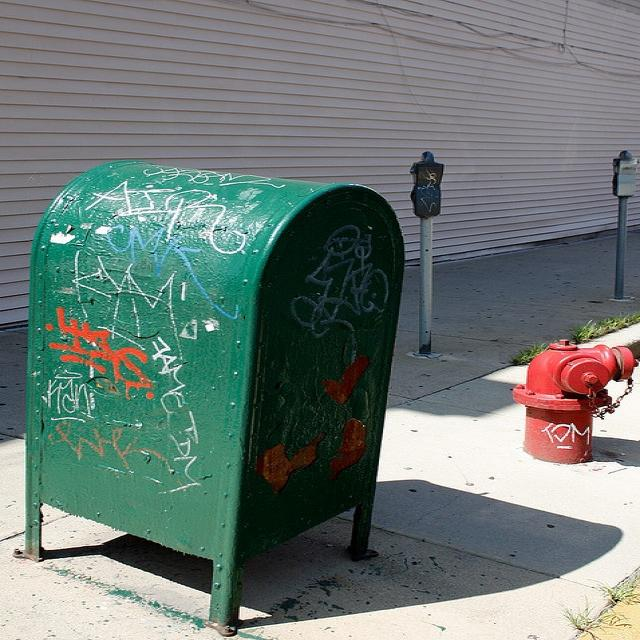fire_hydrant: (510, 339, 639, 462)
